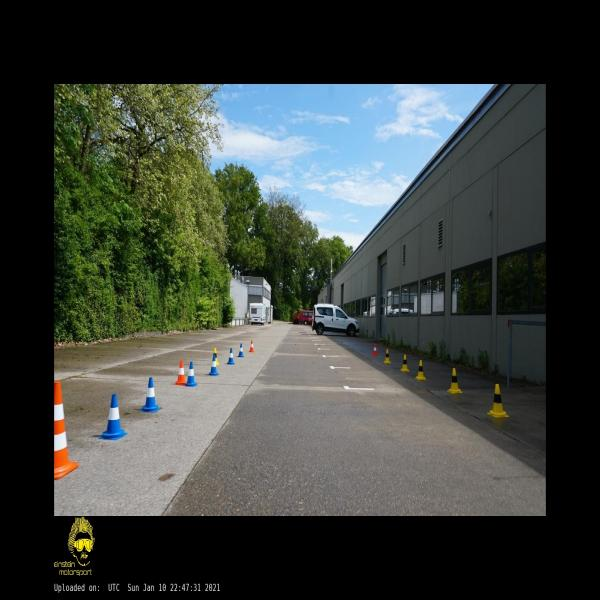blue_cone: (98, 394, 126, 439), (141, 378, 159, 412), (186, 362, 196, 386), (209, 355, 219, 375), (227, 348, 235, 364), (238, 343, 244, 357)
large_orange_cone: (54, 382, 78, 479)
orange_cone: (175, 361, 186, 385), (249, 340, 254, 352), (373, 343, 377, 356)
yellow_cone: (487, 384, 509, 417), (447, 368, 462, 393), (415, 360, 426, 380), (401, 354, 410, 371), (211, 348, 219, 365), (384, 349, 391, 364)
